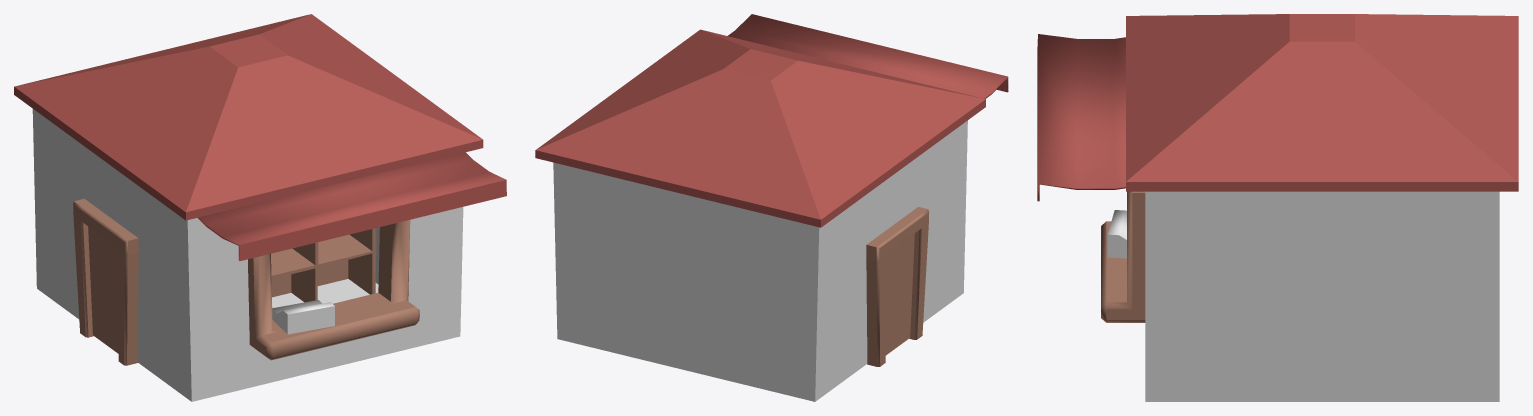
File: MSH_house2Store.fbx
3 renders of one model, left to right at view 1: azimuth 30°, elevation 25°; view 2: azimuth 150°, elevation 25°; view 3: azimuth 270°, elevation 25°, orthographic. The views are drawn at different scales.
Parts seen in each view (by area): view 1: Roof, Store; view 2: Store, Roof; view 3: Roof, Store.
Part boxes in pixels (x1,y1,x2,y2): Roof: (14, 14, 506, 260); Store: (32, 109, 463, 401); Store: (553, 120, 967, 401); Roof: (535, 14, 1008, 227); Roof: (1037, 14, 1518, 201); Store: (1101, 191, 1499, 401).
Size of the model in its own units: 348 by 426 by 293.
